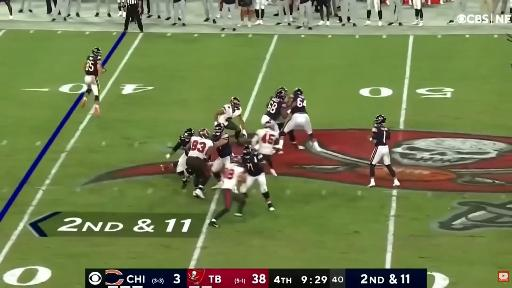Helmet: (198, 128, 210, 139), (214, 123, 224, 135), (374, 115, 386, 125), (243, 145, 252, 158), (275, 90, 285, 100), (184, 128, 194, 138), (230, 155, 241, 164), (92, 47, 101, 57), (231, 97, 240, 107), (263, 120, 273, 128), (293, 88, 303, 95), (279, 87, 287, 93)
Jersey: (252, 128, 278, 154), (222, 164, 245, 191), (189, 136, 213, 158), (243, 152, 264, 176), (212, 134, 232, 158), (218, 105, 241, 125), (266, 98, 283, 121), (372, 126, 390, 146), (86, 55, 100, 76), (291, 95, 306, 114), (173, 135, 190, 151)
Player: (209, 155, 246, 227), (276, 88, 319, 149), (368, 115, 399, 186), (240, 146, 274, 210), (185, 129, 215, 198), (82, 47, 105, 115), (214, 97, 246, 142), (252, 121, 278, 175), (212, 123, 232, 189), (261, 88, 286, 130), (276, 87, 288, 131), (176, 151, 189, 189), (366, 0, 382, 26), (412, 0, 423, 26)
